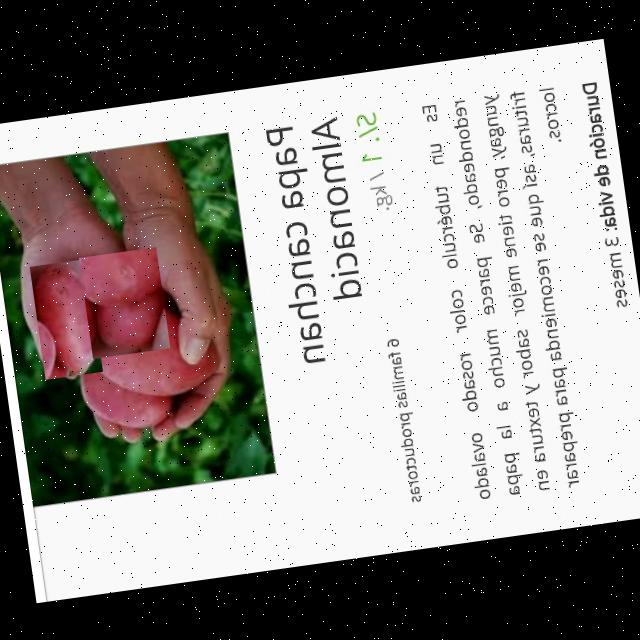Defected potato: (78, 284, 228, 408), (79, 246, 170, 358), (30, 258, 103, 379)
